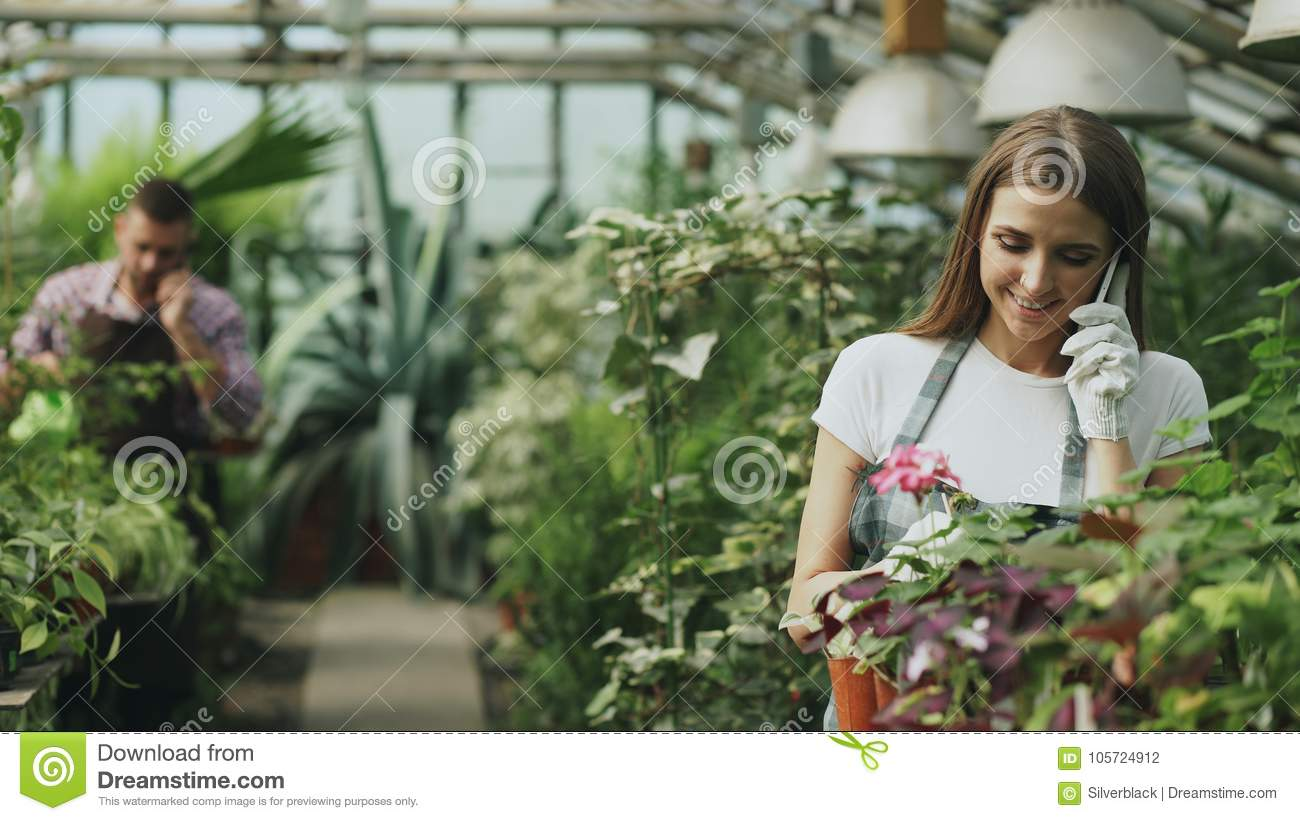phone: (1072, 232, 1128, 354)
talk: (984, 217, 1141, 437)
